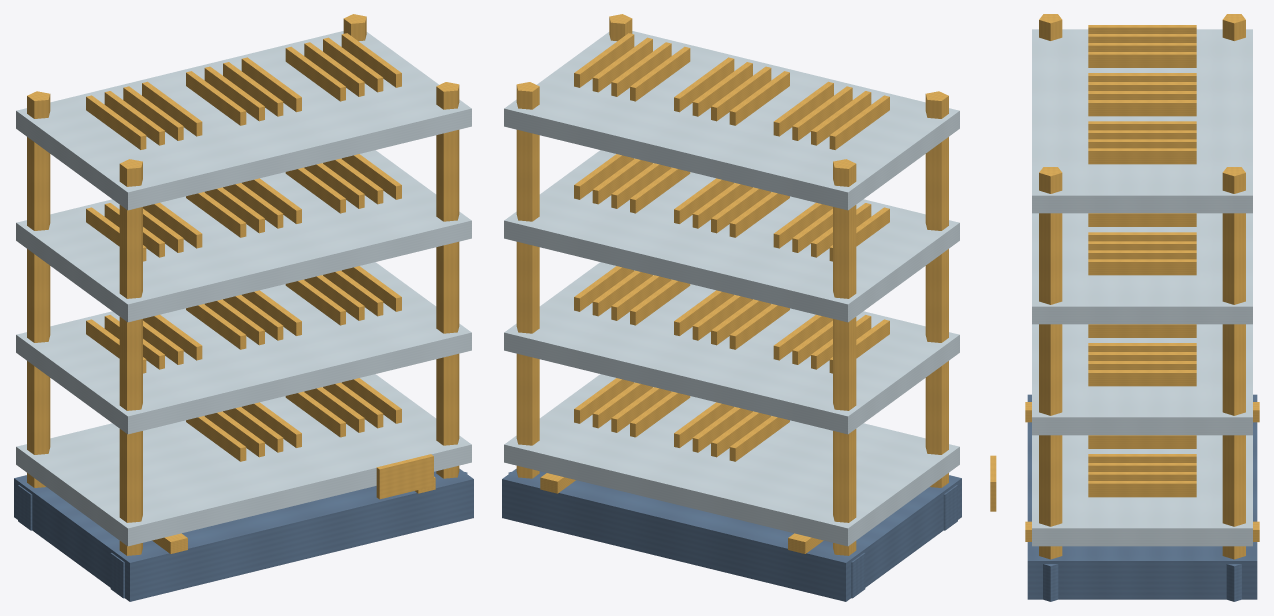
The model's file is atlas100-s057-a01.lod1.glb.
The picture shows the model from 3 angles, left to right: view 1: azimuth 30°, elevation 25°; view 2: azimuth 150°, elevation 25°; view 3: azimuth 270°, elevation 25°; orthographic projection.
Visible parts, largest first — view 1: atlas100-s057-a01:part-050, atlas100-s057-a01:part-011, atlas100-s057-a01:part-037, atlas100-s057-a01:part-024, atlas100-s057-a01:part-000, atlas100-s057-a01:part-005, atlas100-s057-a01:part-009, atlas100-s057-a01:part-003, atlas100-s057-a01:part-063, atlas100-s057-a01:part-055, atlas100-s057-a01:part-051, atlas100-s057-a01:part-059 (+41 smaller); view 2: atlas100-s057-a01:part-011, atlas100-s057-a01:part-050, atlas100-s057-a01:part-037, atlas100-s057-a01:part-024, atlas100-s057-a01:part-000, atlas100-s057-a01:part-003, atlas100-s057-a01:part-007, atlas100-s057-a01:part-005, atlas100-s057-a01:part-055, atlas100-s057-a01:part-051, atlas100-s057-a01:part-059, atlas100-s057-a01:part-052 (+40 smaller); view 3: atlas100-s057-a01:part-050, atlas100-s057-a01:part-037, atlas100-s057-a01:part-011, atlas100-s057-a01:part-024, atlas100-s057-a01:part-000, atlas100-s057-a01:part-007, atlas100-s057-a01:part-009, atlas100-s057-a01:part-023, atlas100-s057-a01:part-036, atlas100-s057-a01:part-049, atlas100-s057-a01:part-058, atlas100-s057-a01:part-062 (+27 smaller).
Boxes of the visible parts, <box> form: atlas100-s057-a01:part-050: <box>16,31,471,210</box>; atlas100-s057-a01:part-011: <box>16,374,471,546</box>; atlas100-s057-a01:part-037: <box>16,150,471,322</box>; atlas100-s057-a01:part-024: <box>16,262,471,434</box>; atlas100-s057-a01:part-000: <box>14,468,473,601</box>; atlas100-s057-a01:part-005: <box>119,159,142,555</box>; atlas100-s057-a01:part-009: <box>436,82,459,478</box>; atlas100-s057-a01:part-003: <box>27,91,50,487</box>; atlas100-s057-a01:part-063: <box>376,454,433,499</box>; atlas100-s057-a01:part-055: <box>186,71,246,125</box>; atlas100-s057-a01:part-051: <box>86,95,146,149</box>; atlas100-s057-a01:part-059: <box>285,46,345,101</box>; atlas100-s057-a01:part-011: <box>504,374,959,546</box>; atlas100-s057-a01:part-050: <box>504,31,959,210</box>; atlas100-s057-a01:part-037: <box>504,150,959,322</box>; atlas100-s057-a01:part-024: <box>504,262,959,434</box>; atlas100-s057-a01:part-000: <box>502,468,961,601</box>; atlas100-s057-a01:part-003: <box>833,159,856,555</box>; atlas100-s057-a01:part-007: <box>516,82,539,478</box>; atlas100-s057-a01:part-005: <box>925,91,948,487</box>; atlas100-s057-a01:part-055: <box>729,71,789,125</box>; atlas100-s057-a01:part-051: <box>829,95,889,149</box>; atlas100-s057-a01:part-059: <box>630,46,690,101</box>; atlas100-s057-a01:part-052: <box>811,91,871,145</box>; atlas100-s057-a01:part-050: <box>1032,29,1252,213</box>; atlas100-s057-a01:part-037: <box>1032,213,1252,324</box>; atlas100-s057-a01:part-011: <box>1032,435,1252,546</box>; atlas100-s057-a01:part-024: <box>1032,324,1252,435</box>; atlas100-s057-a01:part-000: <box>1027,394,1257,599</box>; atlas100-s057-a01:part-007: <box>1222,167,1245,559</box>; atlas100-s057-a01:part-009: <box>1039,167,1062,559</box>; atlas100-s057-a01:part-023: <box>1088,481,1196,497</box>; atlas100-s057-a01:part-036: <box>1088,370,1196,386</box>; atlas100-s057-a01:part-049: <box>1088,259,1196,275</box>; atlas100-s057-a01:part-058: <box>1088,100,1196,116</box>; atlas100-s057-a01:part-062: <box>1088,148,1196,164</box>.
Size of the model in its own units: 2.44 by 2.88 by 1.64.
3 materials, 3 textured.
